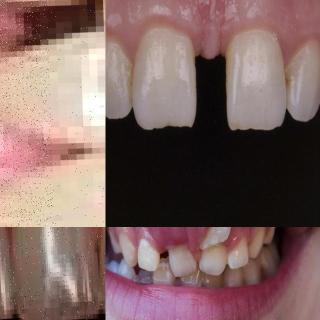Gum Swelling: (148, 227, 216, 250)
maligned: (194, 227, 232, 251), (132, 266, 151, 292)
stains: (280, 59, 304, 99)
